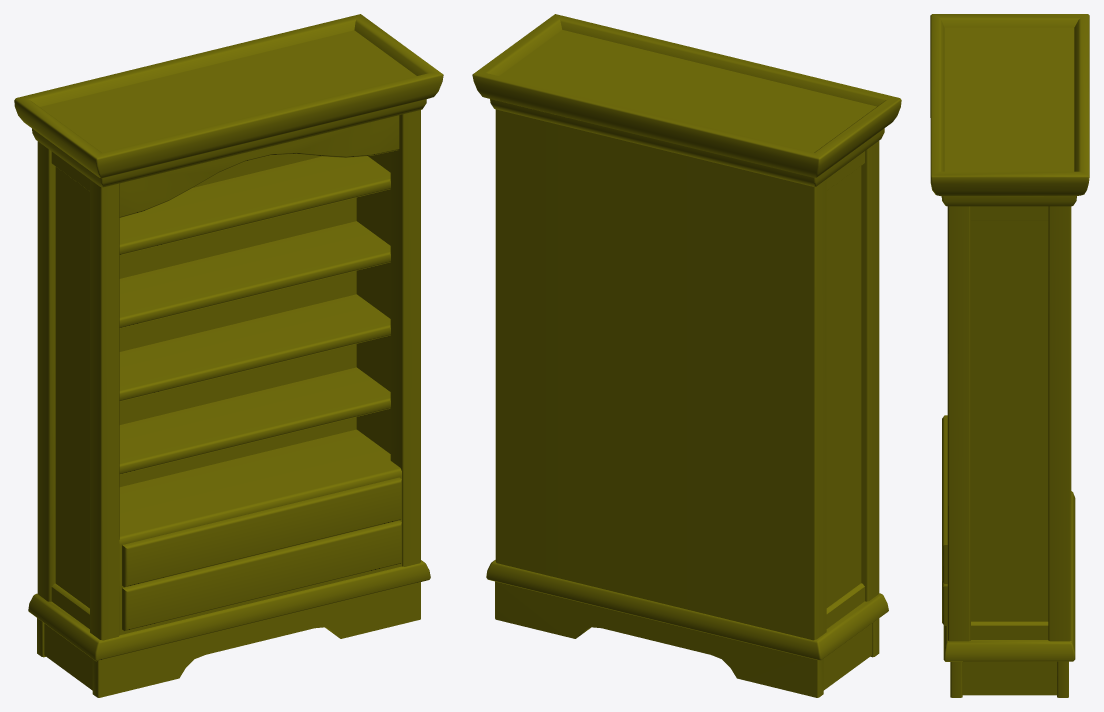
3 renders of one model, left to right at view 1: azimuth 30°, elevation 25°; view 2: azimuth 150°, elevation 25°; view 3: azimuth 270°, elevation 25°, orthographic. The views are drawn at different scales.
Visible parts, largest first — view 1: SM_Bookshelves_Scholar_Peak_Book_01_LOD0; view 2: SM_Bookshelves_Scholar_Peak_Book_01_LOD0; view 3: SM_Bookshelves_Scholar_Peak_Book_01_LOD0.
Part boxes in pixels (bbox=[...]): SM_Bookshelves_Scholar_Peak_Book_01_LOD0: bbox=[14, 14, 443, 697]; SM_Bookshelves_Scholar_Peak_Book_01_LOD0: bbox=[472, 14, 901, 697]; SM_Bookshelves_Scholar_Peak_Book_01_LOD0: bbox=[930, 14, 1089, 697].
Bounding box in the file's own units: 1.5 × 2.26 × 0.6194.
